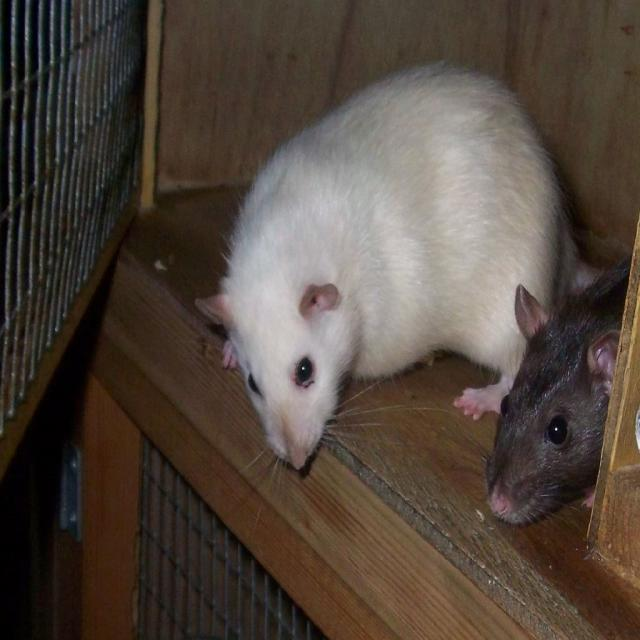rat: (195, 66, 601, 507), (414, 252, 630, 528)
